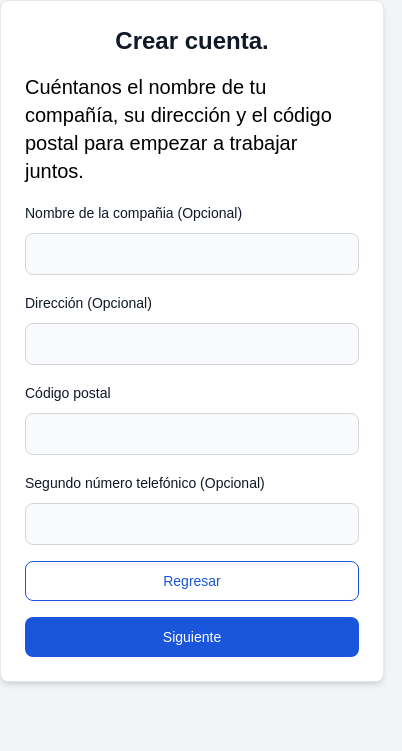
Test case: CompanyDetails › shows validation error for short address when provided
Type "A" into the field labelled "Dirección (Opcional)" at (192, 344), box [25,323,359,365]
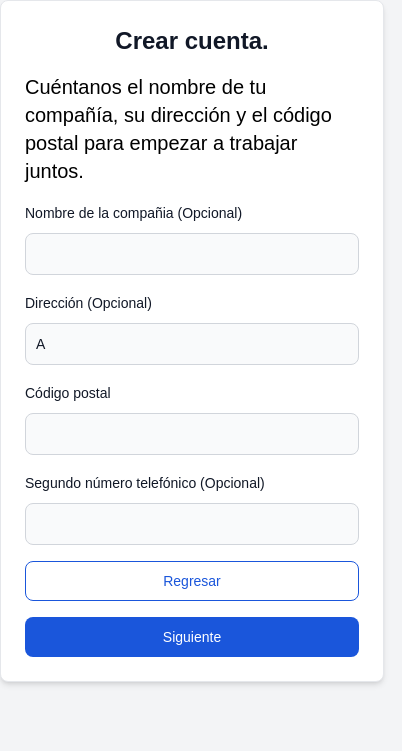
Type "1234" into the field labelled "Código postal" at (192, 434), box [25,413,359,455]
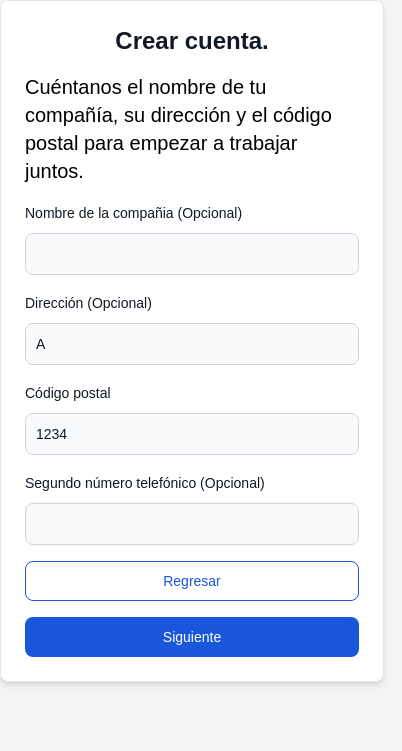
Click the button "Siguiente" at (192, 637), box [25,617,359,657]
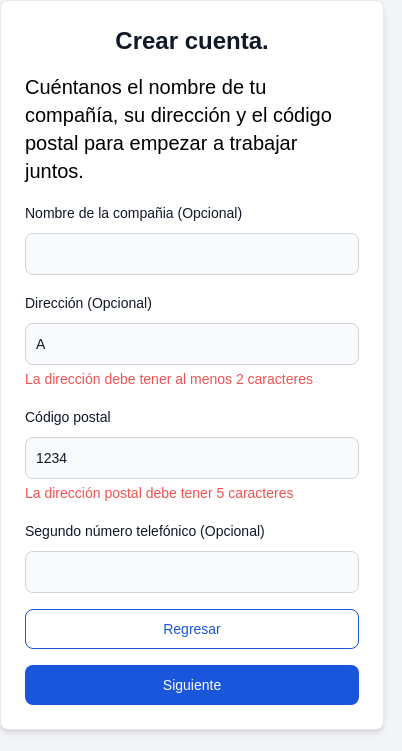
Expected: the text "La dirección debe tener al menos 2 caracteres" is shown, [25,369,359,389]
